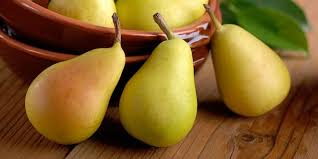pear: (15, 35, 131, 148), (209, 21, 292, 121), (124, 41, 195, 151)
